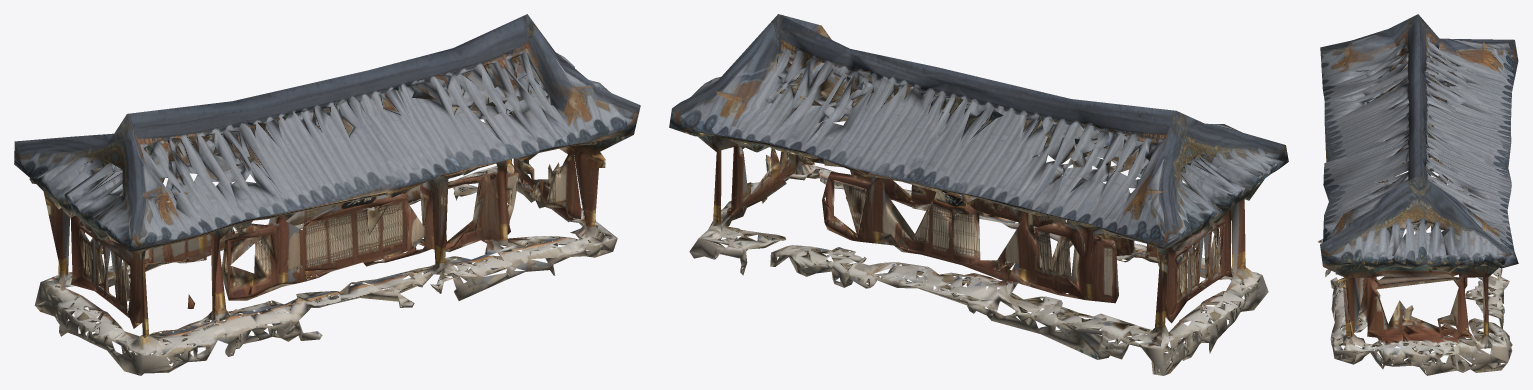
File: PR_YukjoOffice.fbx
The picture shows the model from 3 angles, left to right: view 1: azimuth 30°, elevation 25°; view 2: azimuth 150°, elevation 25°; view 3: azimuth 270°, elevation 25°; orthographic projection. The views are drawn at different scales.
Visible parts, largest first — view 1: texture_mapping; view 2: texture_mapping; view 3: texture_mapping.
Boxes of the visible parts, x1,y1,x2,y2 form: texture_mapping: (14,14,640,375); texture_mapping: (669,14,1288,375); texture_mapping: (1317,14,1518,375).
Bounding box in the file's own units: 0.9959 × 0.407 × 0.4097.
1 material, 1 textured.
